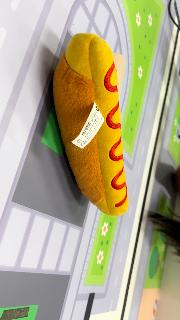hotdog: (52, 33, 130, 217)
